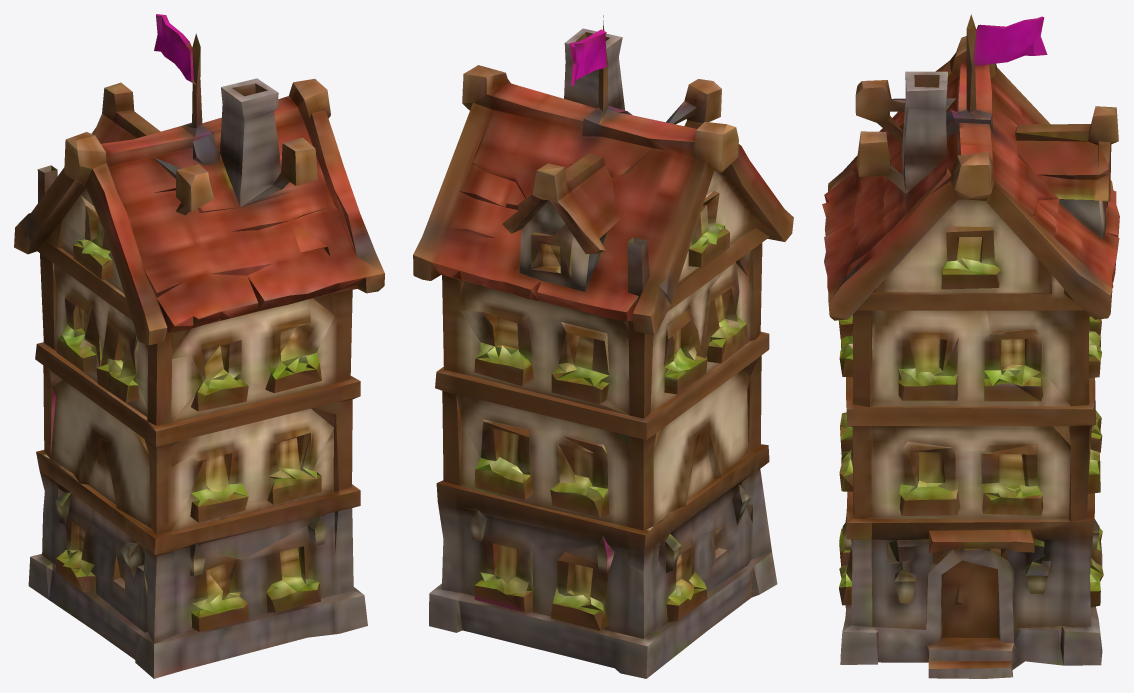
File: house3.lod2.glb
3 views of the same model, side by side, from view 1: azimuth 30°, elevation 25°; view 2: azimuth 150°, elevation 25°; view 3: azimuth 270°, elevation 25° (orthographic). The views are drawn at different scales.
Visible parts, largest first — view 1: house3.lod2_uv; view 2: house3.lod2_uv; view 3: house3.lod2_uv.
Boxes of the visible parts, x1=… form: house3.lod2_uv: x1=14, y1=14, x2=384, y2=678; house3.lod2_uv: x1=413, y1=15, x2=793, y2=678; house3.lod2_uv: x1=822, y1=14, x2=1119, y2=678.
Size of the model in its own units: 0.8959 by 1.9 by 0.8599.
1 material, 1 textured.
